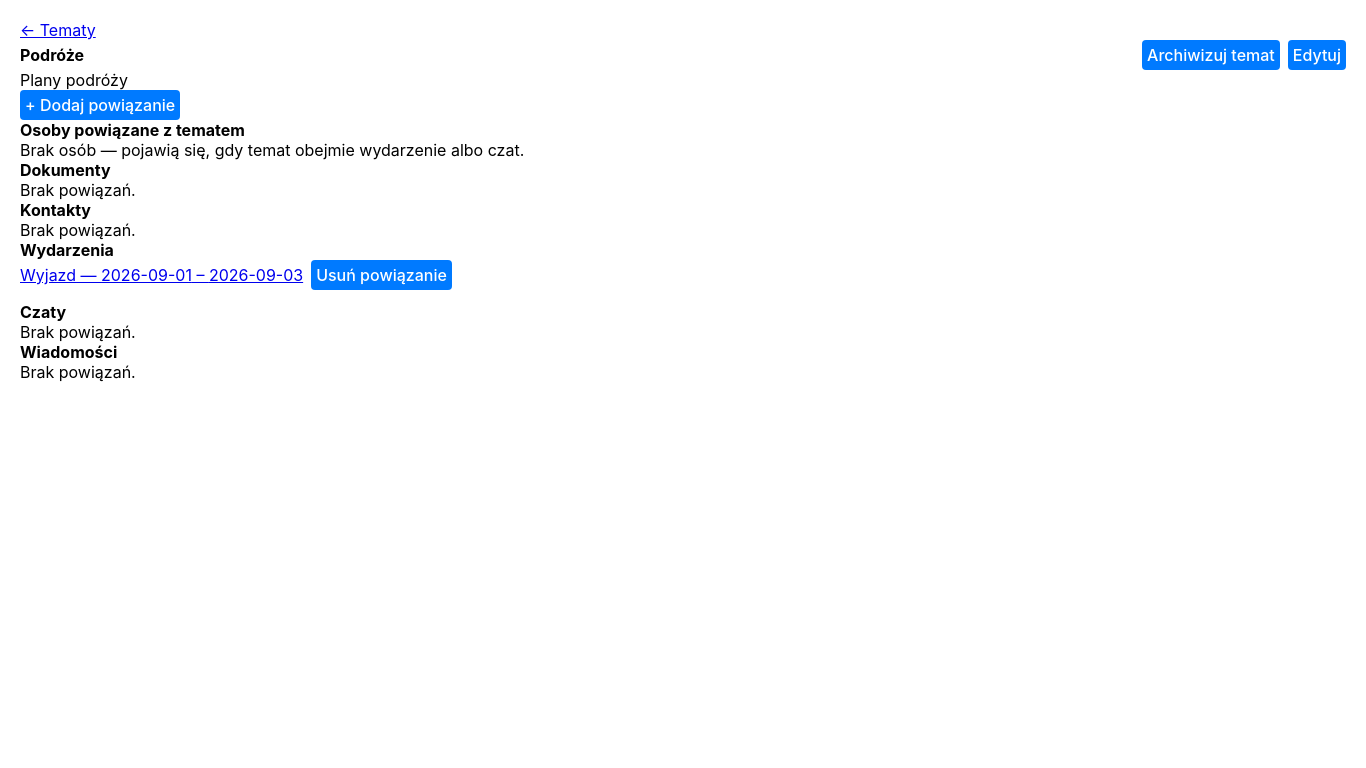
Test: TopicDetail › expands event linking and collapses it after success
The width and height of the screenshot is (1366, 768).
Expected: the heading "Podróże" is shown, [20,45,84,65]
Click the button "+ Dodaj powiązanie". click: click(100, 105)
box: [20,90,180,120]
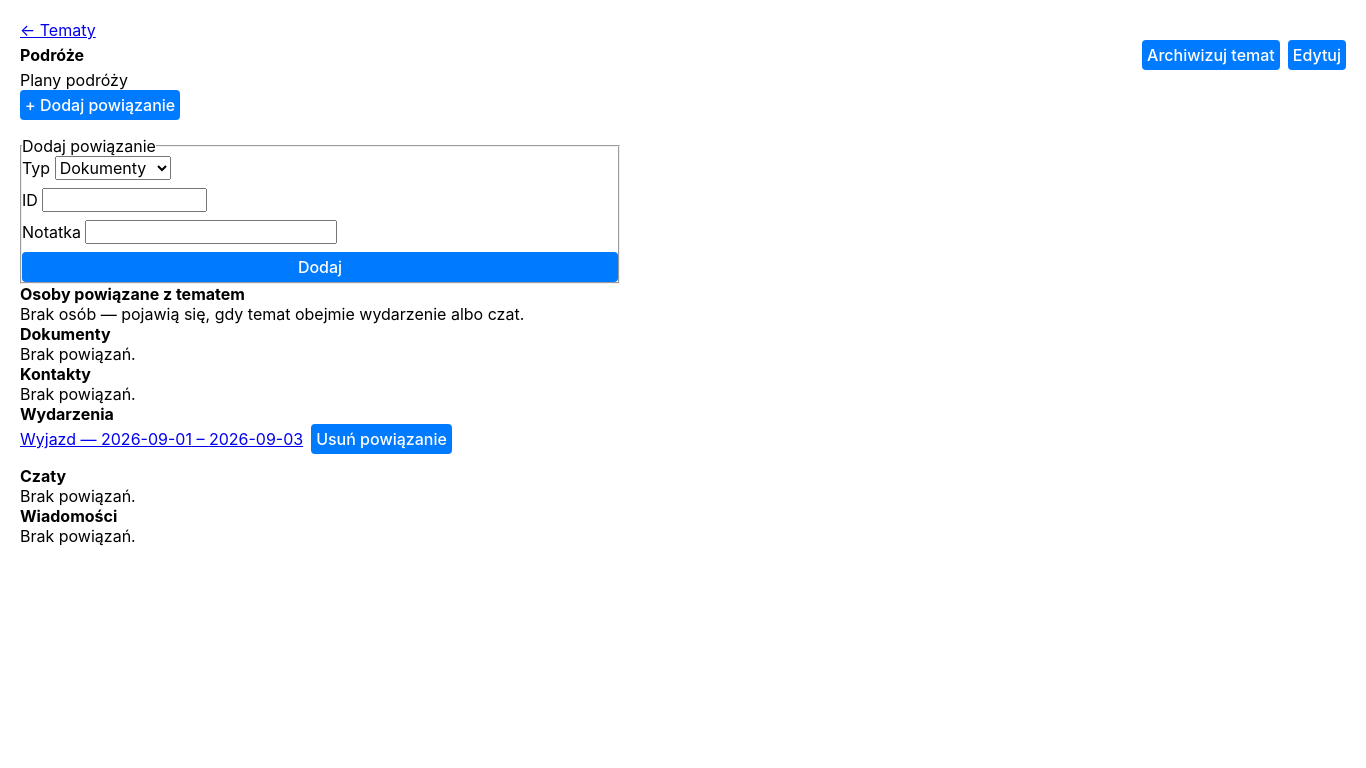
Select "Wydarzenia" in the dropdown labelled "Typ". click: (113, 168)
box: [55,156,171,180]
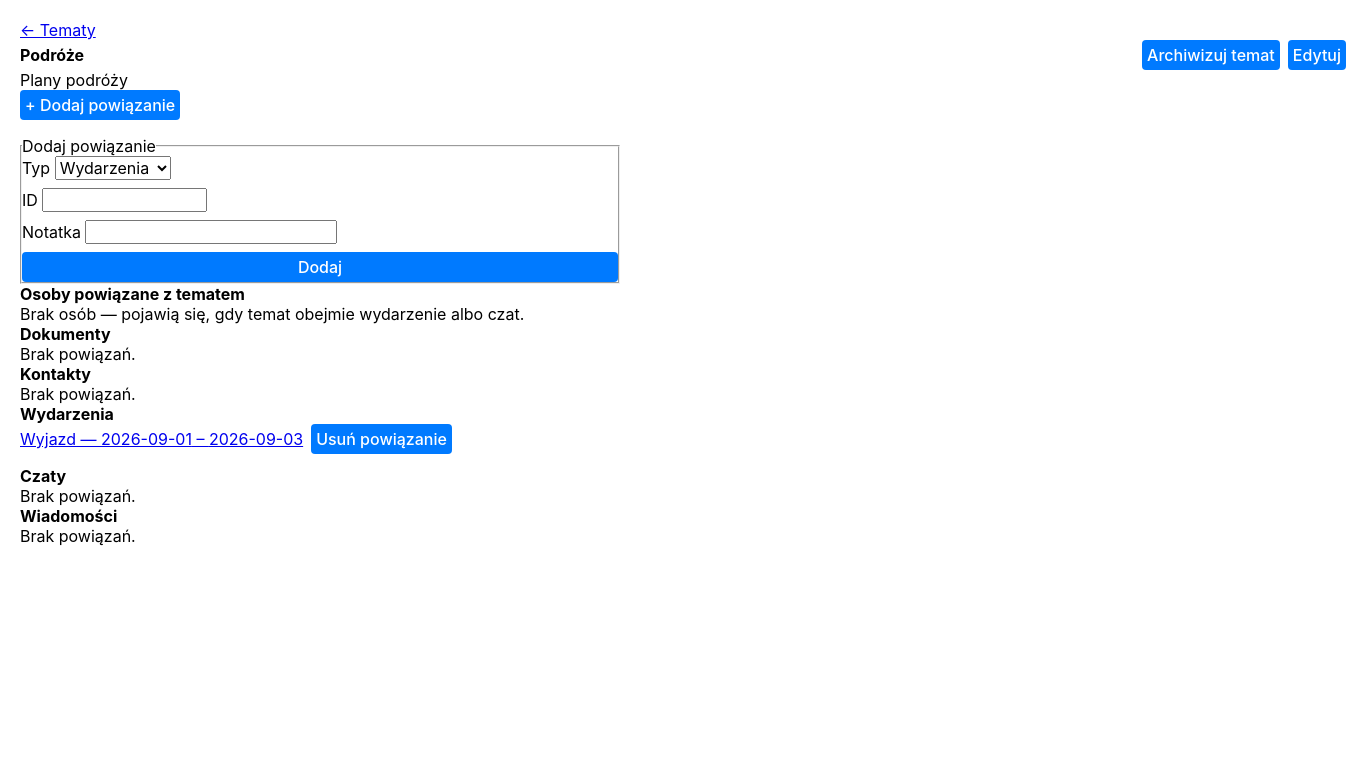
Type "7" into the number field labelled "ID". click: (125, 200)
box: [42,188,207,212]
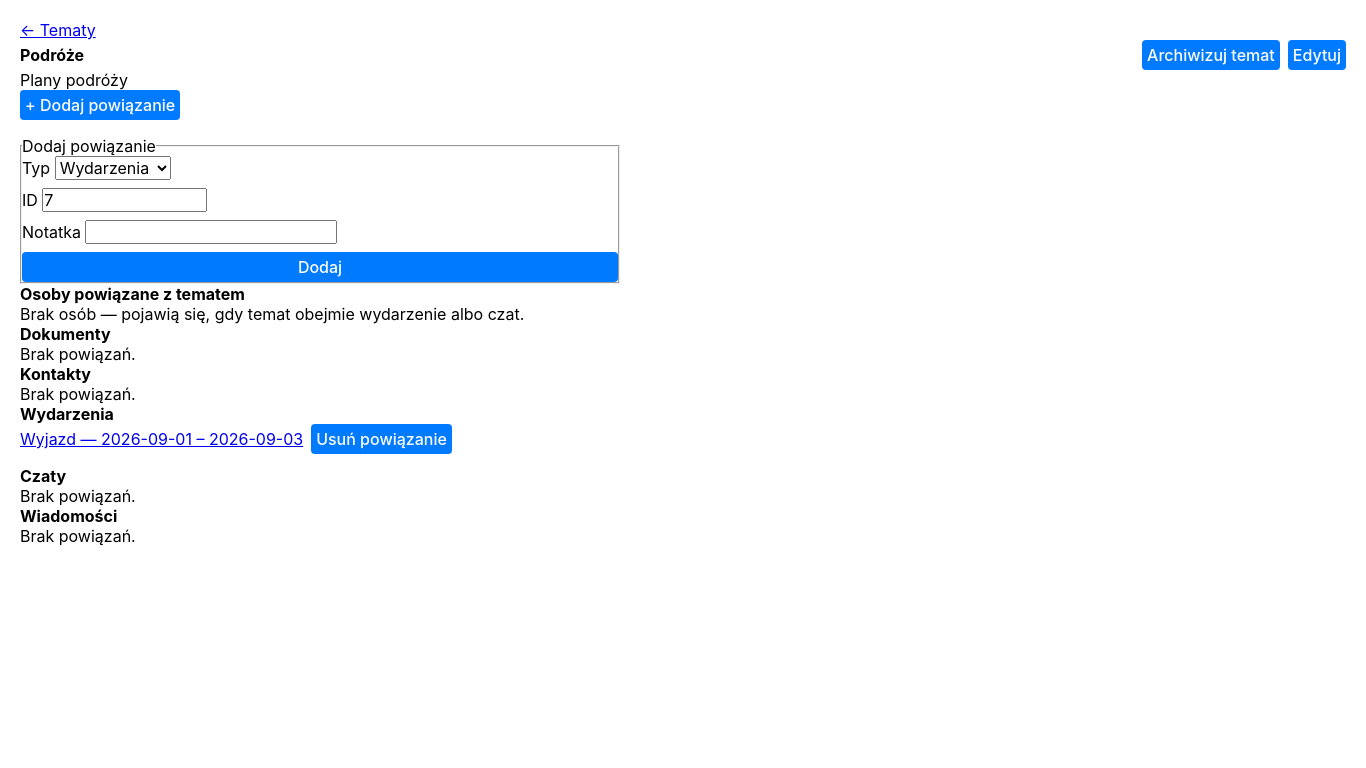
Click the button "Dodaj". click: click(320, 267)
box: [22,252,618,282]
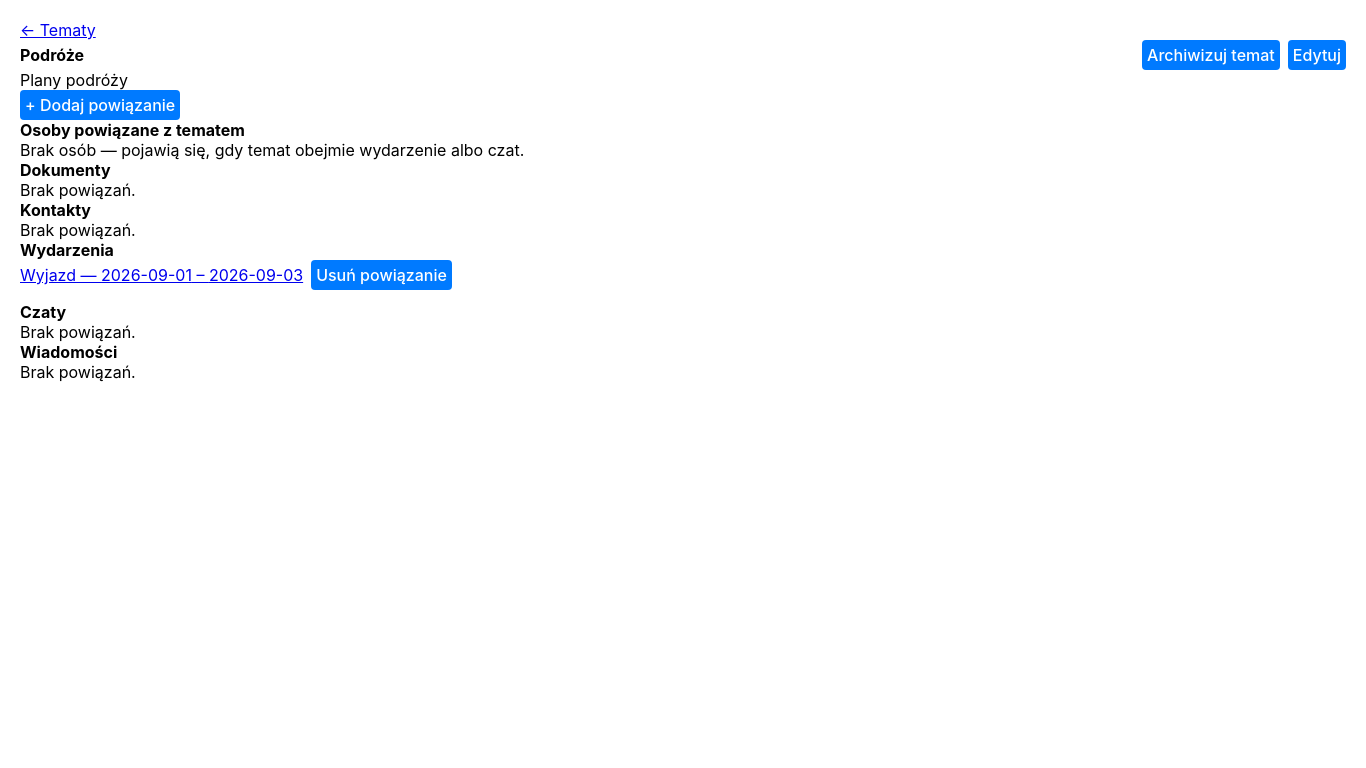
Expected: the heading "Podróże" is shown, [20,45,84,65]
Expected: the label labelled "Typ" is gone
